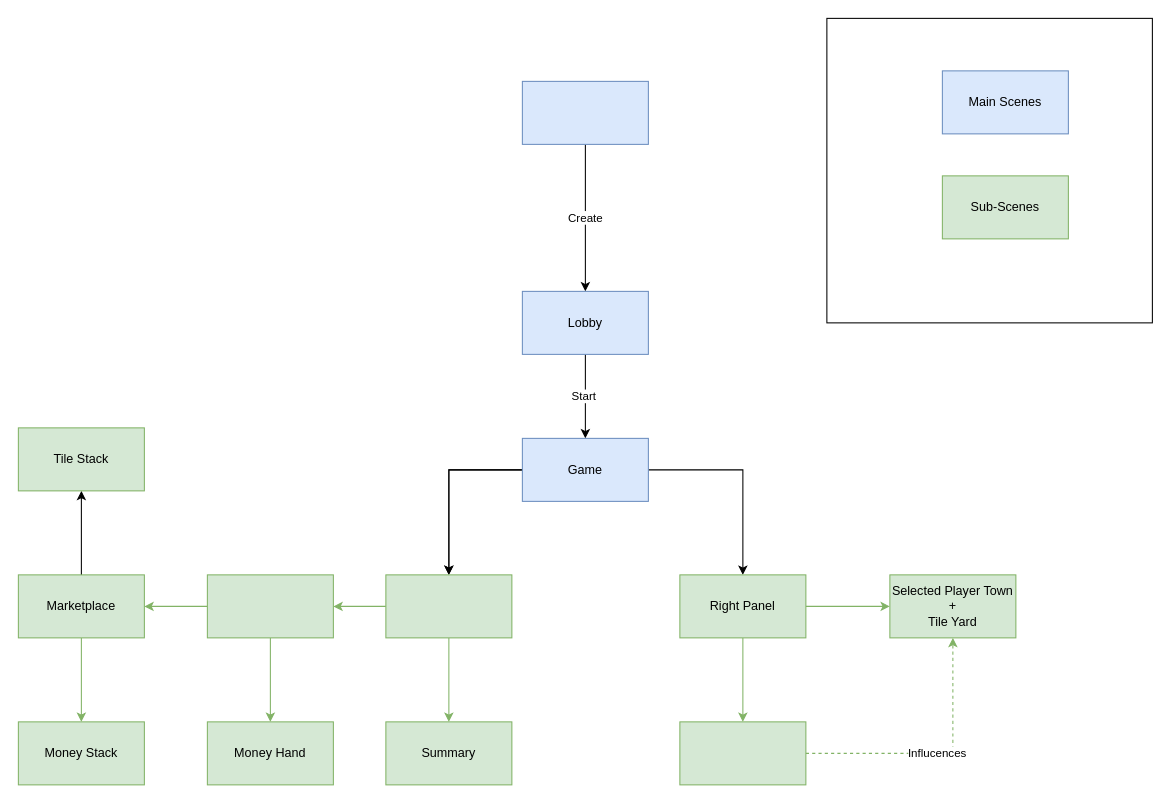
This 1171x803 diagram has some shape labels left out. Each missing label, with the box of its shape:
Left Panel: (385, 574, 512, 638)
Legend: (826, 17, 1152, 323)
Main Menu: (521, 80, 648, 144)
Player Select: (679, 721, 806, 785)
Stacks: (206, 574, 333, 638)
